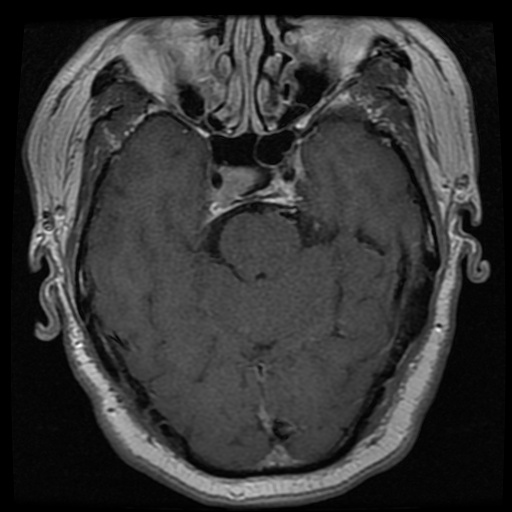pituitary: (212, 165, 256, 214)
